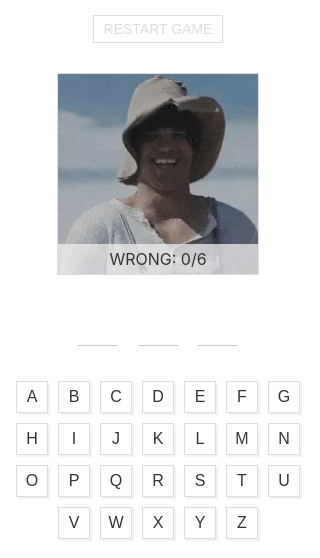
Test: Board › enables restart button after selecting letters
Check: the button "RESTART GAME" is disabled, box [92,15,223,43]
Step 1. Click the button named "select letter a" → (32, 397), box [16,381,48,413]
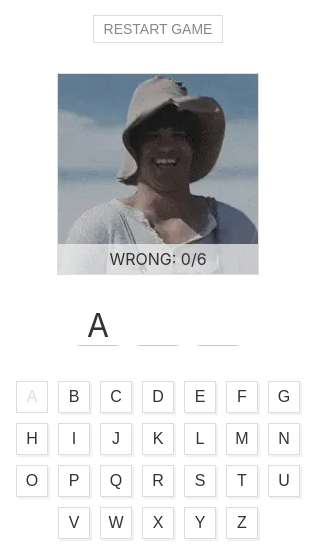
Check: the button "RESTART GAME" is enabled, box [92,15,223,43]
